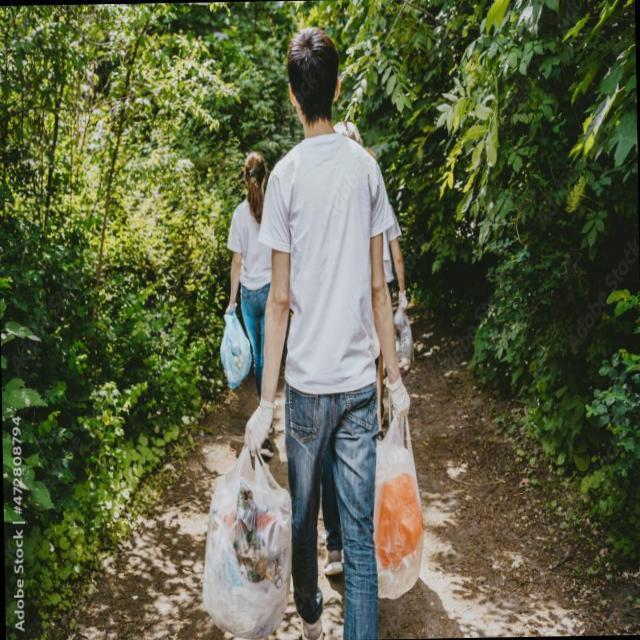Plastic_Bag: (201, 437, 296, 640)
